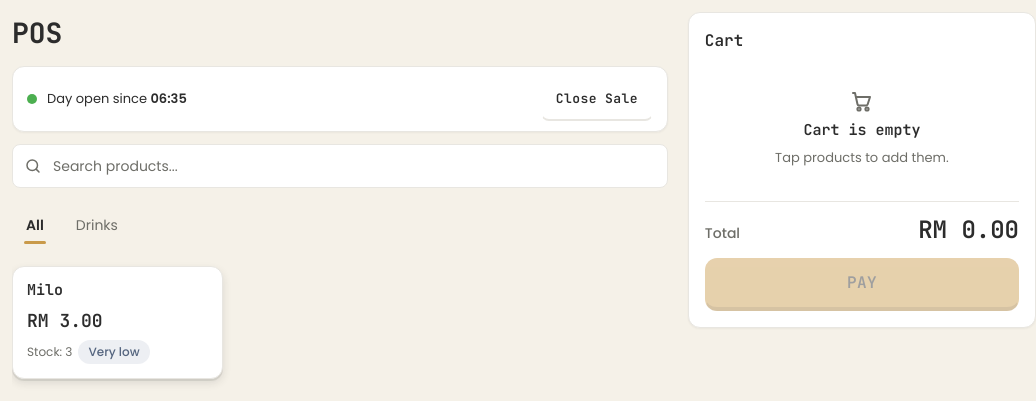
it: PosPage › edits quantity inline and clamps to available stock
Click the button with aria-label "Add Milo, RM 3.00": (117, 322) [12,266,223,378]
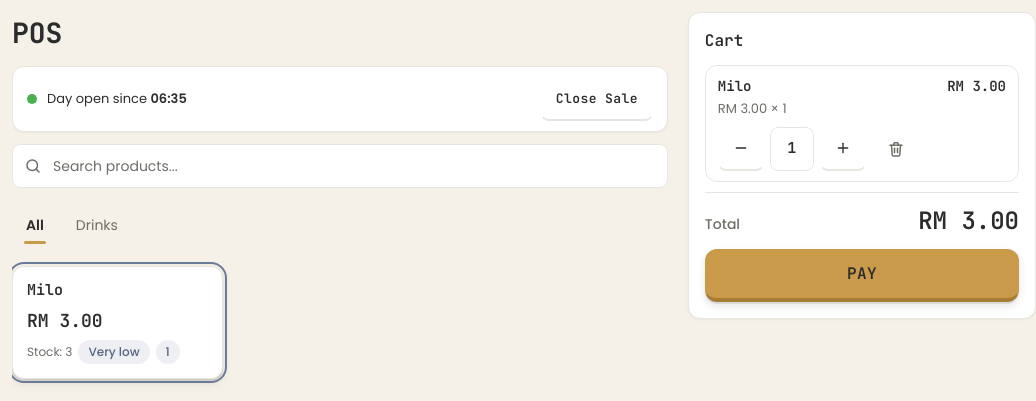
Click the button named "Quantity of Milo: 1. Tap to edit.": (792, 148) [770,126,814,170]
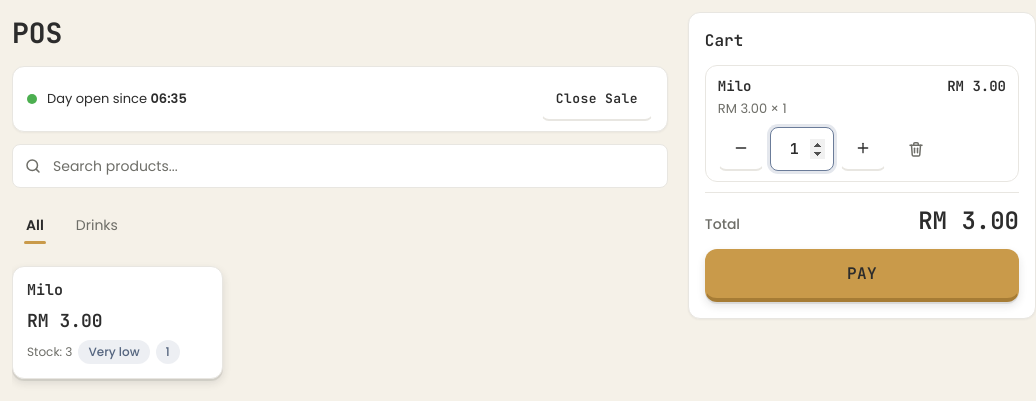
Replace the text in the number field named "Quantity of Milo" with "5": (802, 148) [770,126,834,170]
Then press Enter
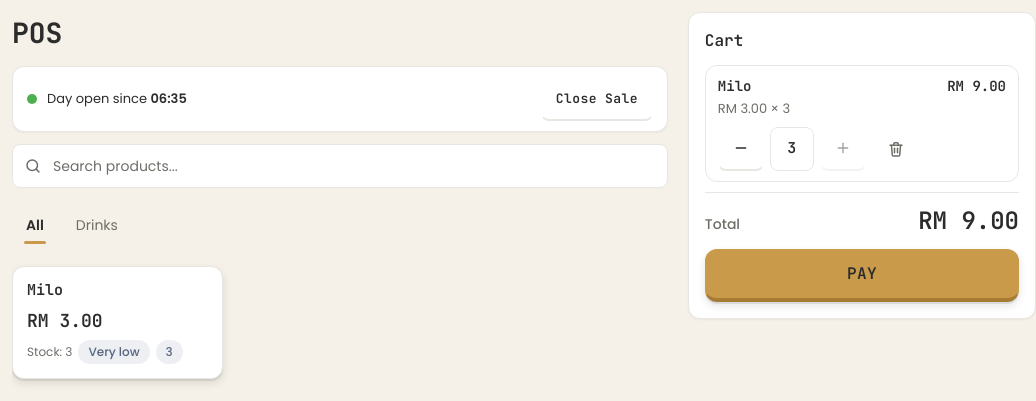
Expected: the button named "Quantity of Milo: 3. Tap to edit." is shown, [770,126,814,170]
